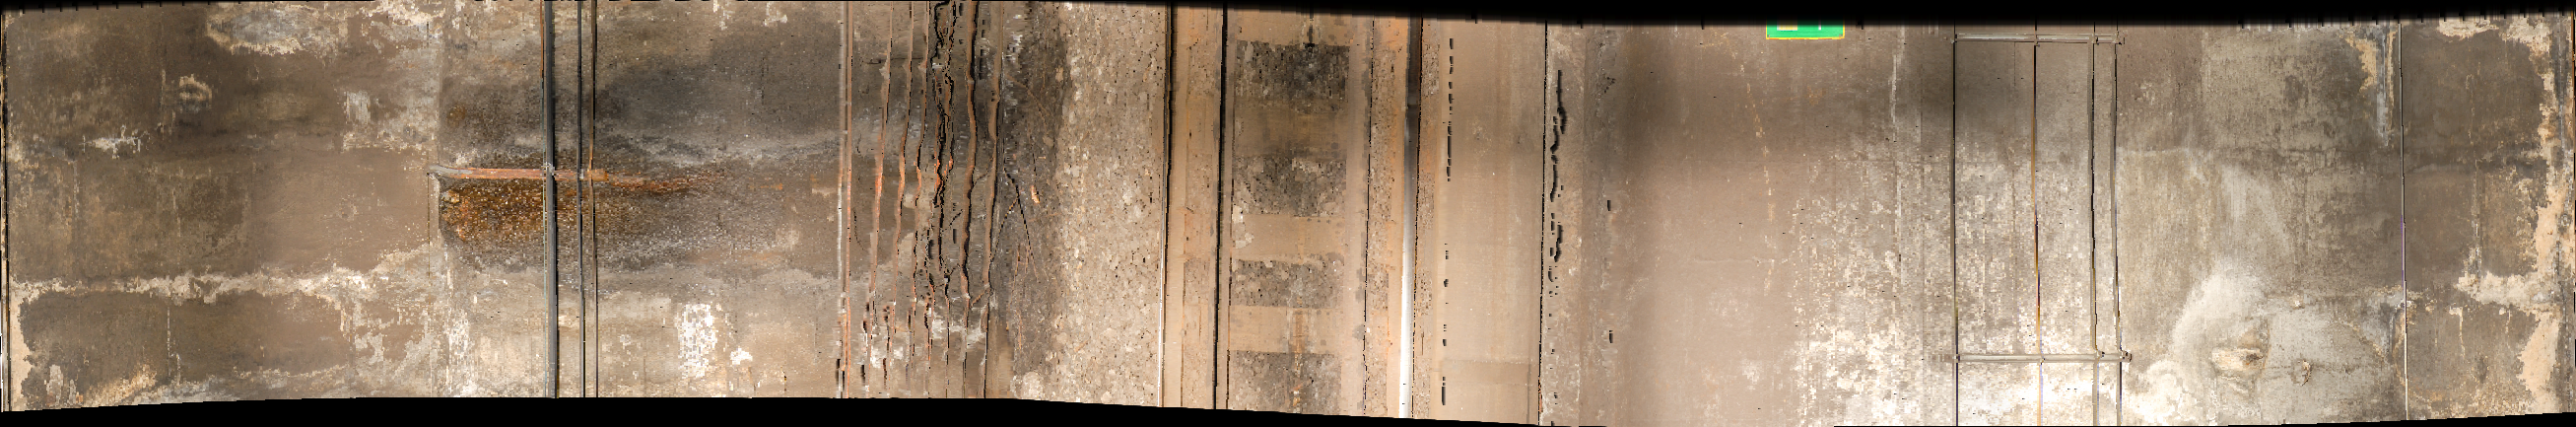pipes: (831, 11, 1019, 427), (529, 2, 609, 406), (2080, 25, 2129, 427), (1937, 31, 1968, 427), (2026, 31, 2057, 425)
tracks: (1158, 11, 1447, 424)
